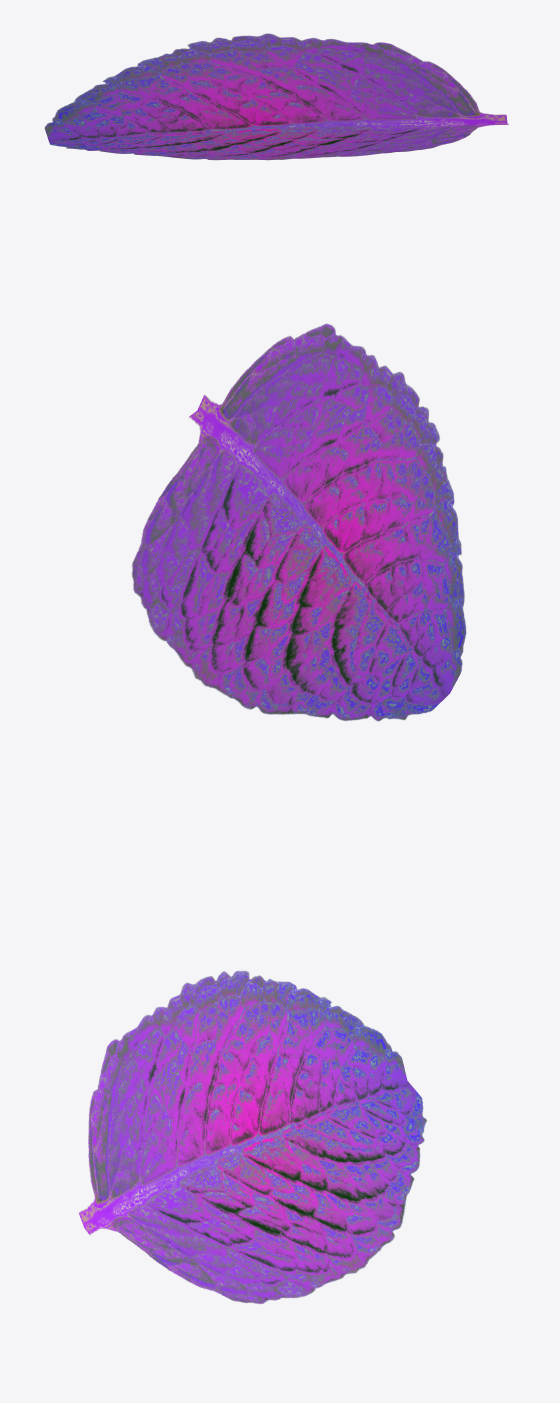
File: leaf.glb
The picture shows the model from 3 angles, top to bottom: view 1: azimuth 30°, elevation 25°; view 2: azimuth 150°, elevation 25°; view 3: azimuth 270°, elevation 25°; orthographic projection. The views are drawn at different scales.
Visible parts, largest first — view 1: Line099.001; view 2: Line099.001; view 3: Line099.001.
Boxes of the visible parts, x1=… form: Line099.001: x1=44, y1=33, x2=508, y2=160; Line099.001: x1=131, y1=323, x2=466, y2=721; Line099.001: x1=78, y1=970, x2=427, y2=1304.
Size of the model in its own units: 15.43 by 8.73 by 12.65.
Materials: 1 (1 with a texture image).
